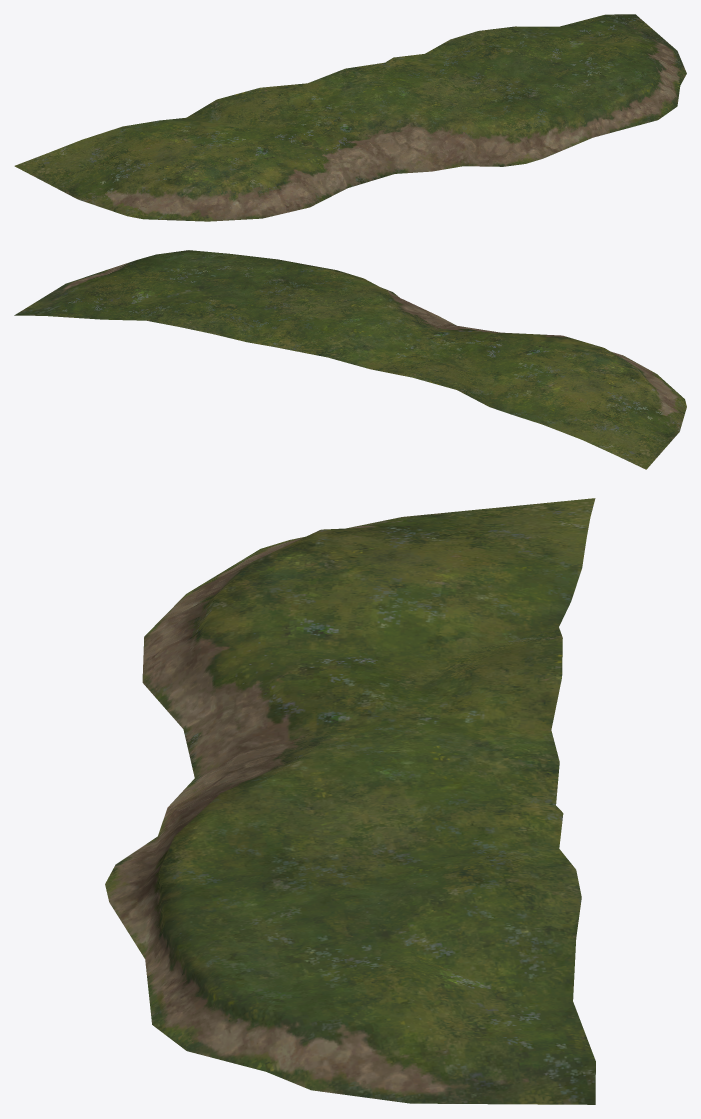
The model's file is SmallCliff.fbx.
3 views of the same model, one above another, from view 1: azimuth 30°, elevation 25°; view 2: azimuth 150°, elevation 25°; view 3: azimuth 270°, elevation 25° (orthographic). The views are drawn at different scales.
Visible parts, largest first — view 1: SM_d_114_SmallCliff_01a.001; view 2: SM_d_114_SmallCliff_01a.001; view 3: SM_d_114_SmallCliff_01a.001.
Boxes of the visible parts, box(x1,y1,x2,y2) form: SM_d_114_SmallCliff_01a.001: box(14, 14, 686, 221); SM_d_114_SmallCliff_01a.001: box(14, 250, 686, 469); SM_d_114_SmallCliff_01a.001: box(105, 498, 595, 1104).
Size of the model in its own units: 8 by 0.3964 by 2.74.
